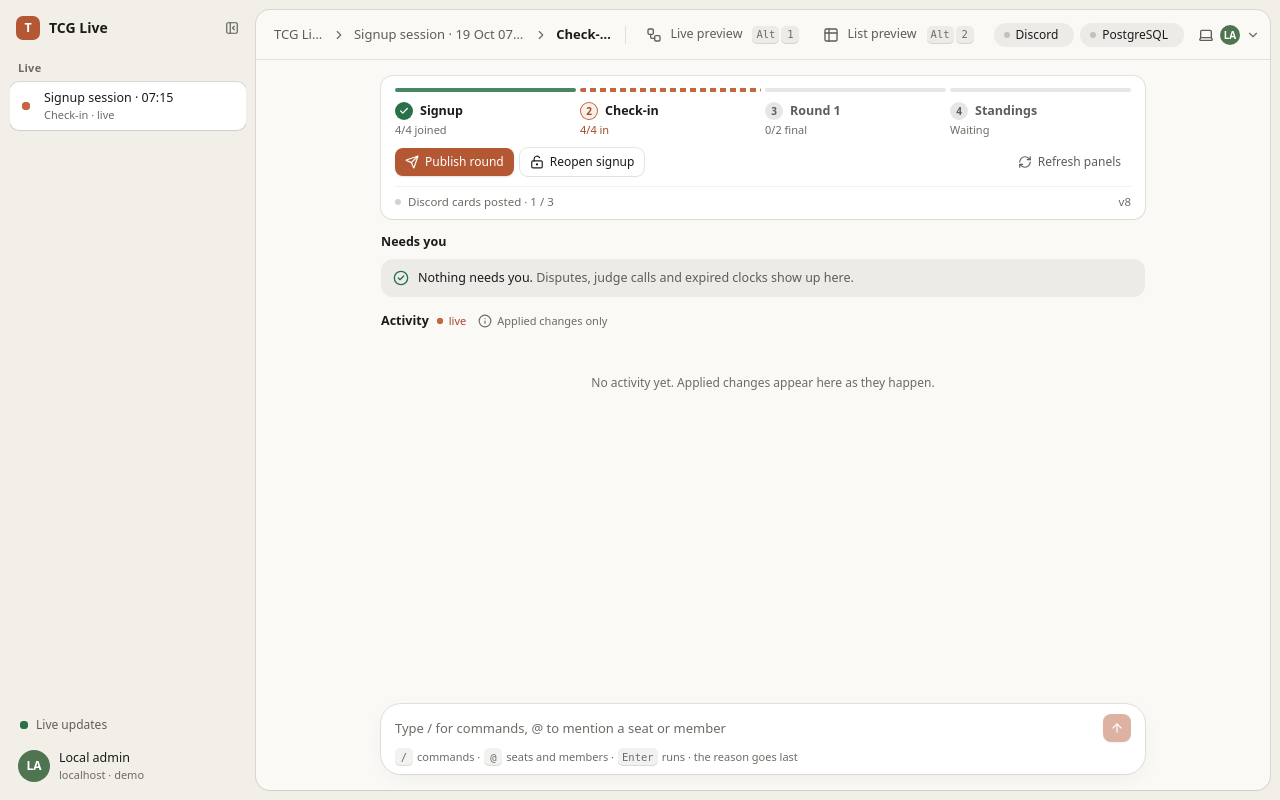
it: stage stepper actions row › publishes with the version precondition and shows a success toast
This screenshot has width=1280, height=800.
Click the button "Publish round": (454, 162) [395,148,514,176]
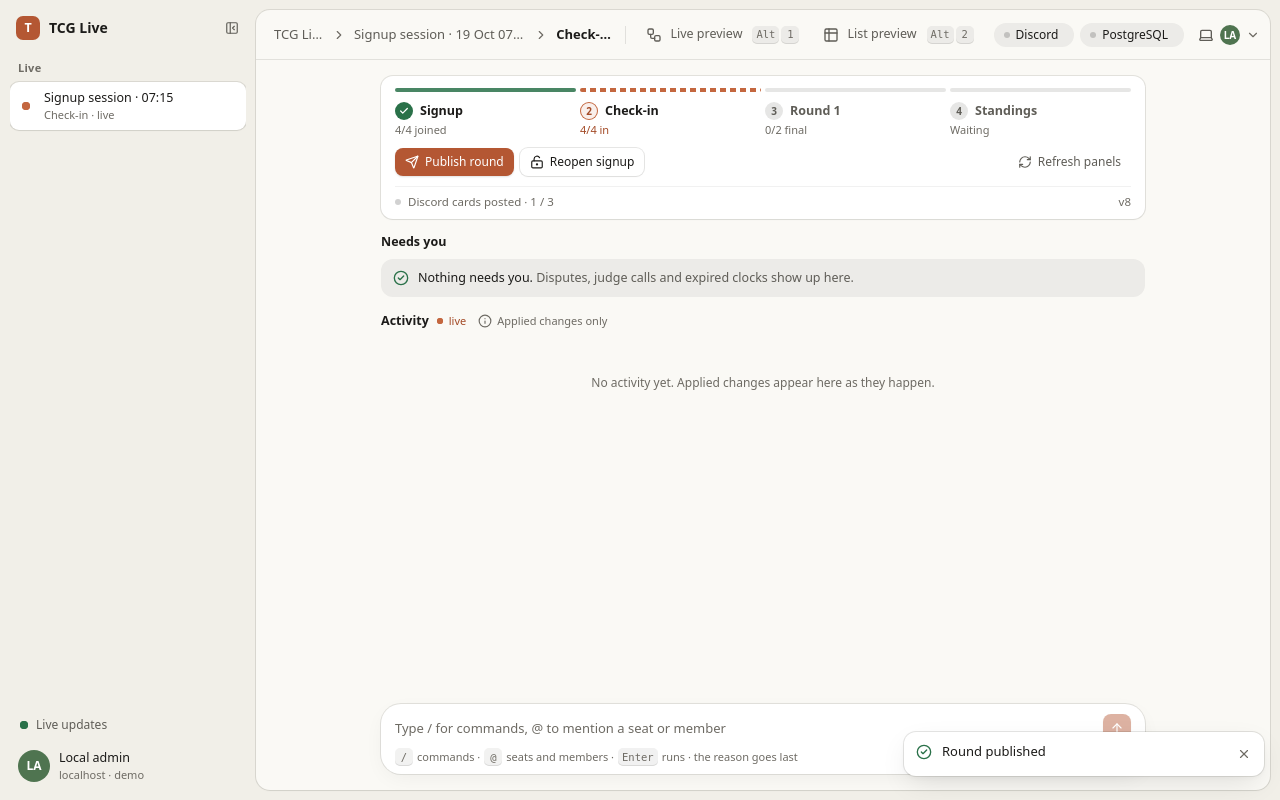
expect the text "Round published" is shown: met, box [942,742,1046,760]
